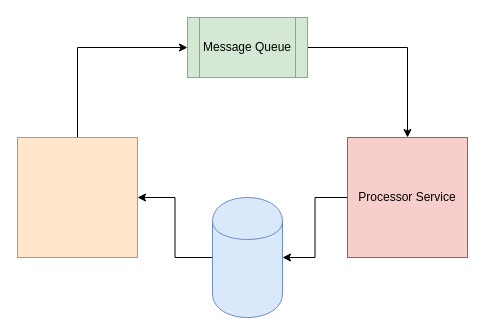
This 485x335 diagram has some shape labels left out. Here are the shapes that lost their labels. From the top down, the centre of each, then its label:
At (77,197): "Coordinator Service".
At (247,257): "Database".
